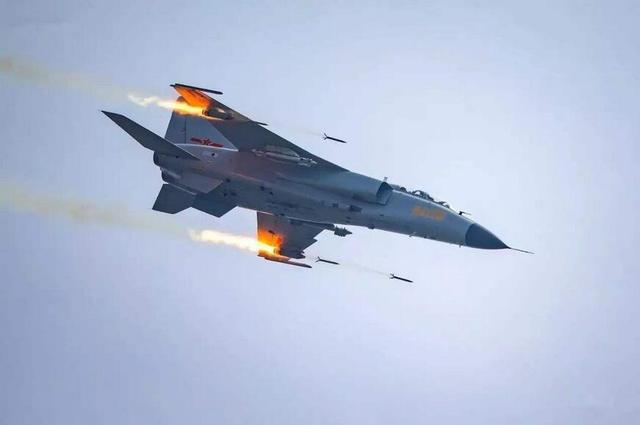airplane: (98, 82, 549, 266)
